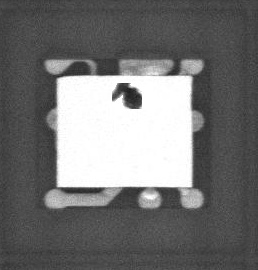DIE_INK: (112, 83, 145, 110)
